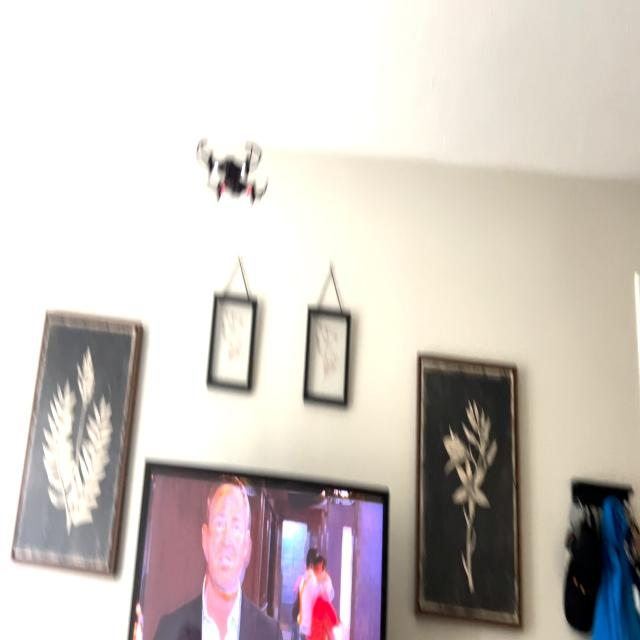drone: (192, 126, 276, 209)
